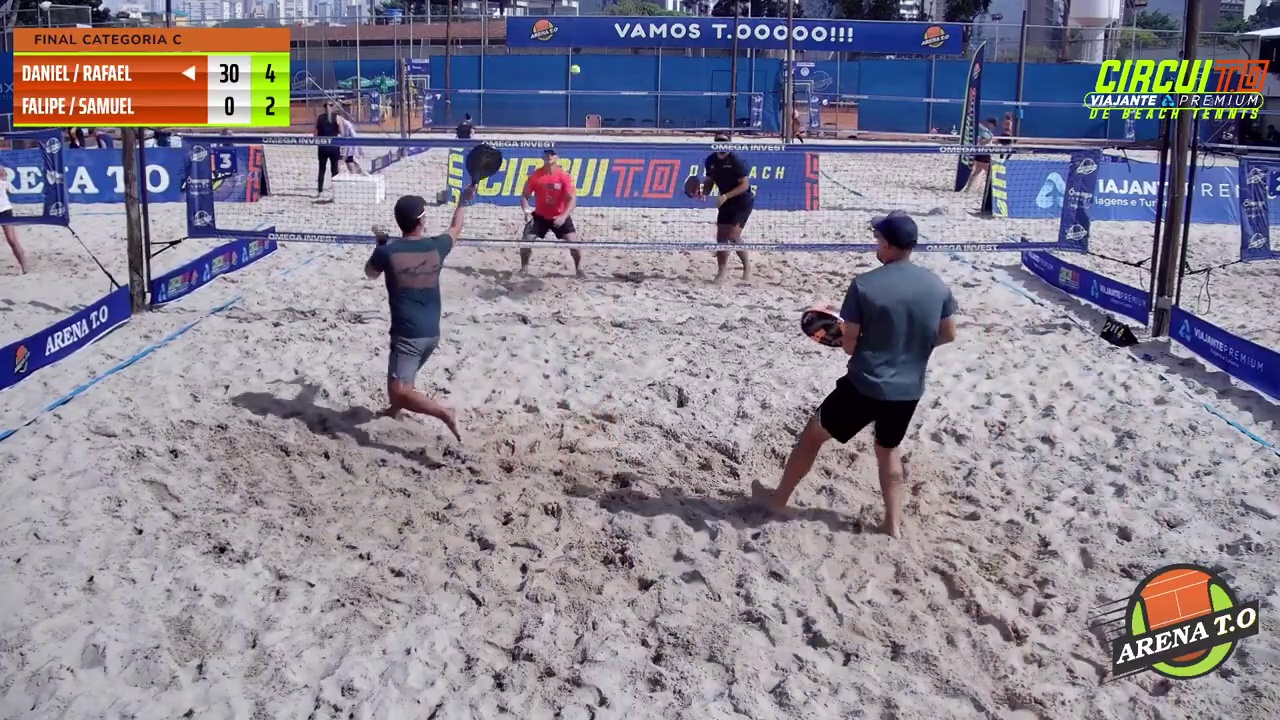court_line: (619, 0, 815, 530), (541, 0, 675, 495), (644, 0, 812, 348)
